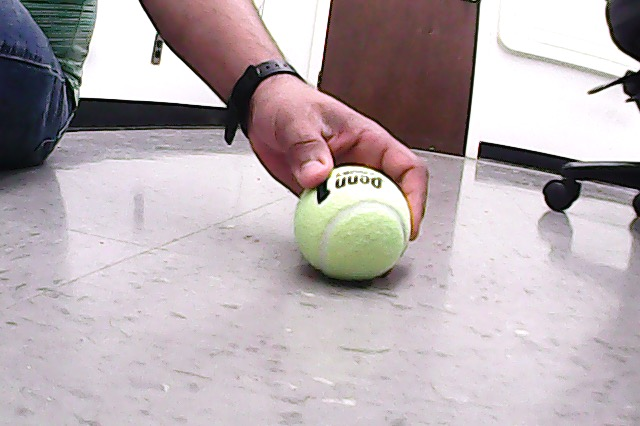ball: (295, 165, 411, 281)
